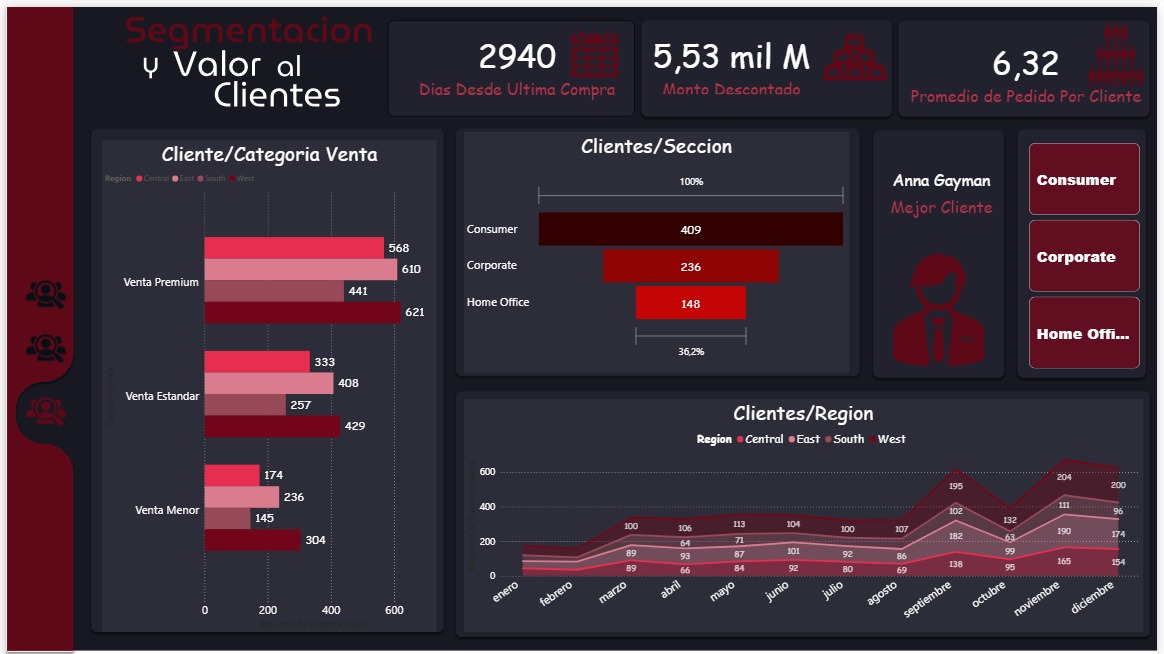

The page's visual inventory and layout, read from the dashboard file:
{"tool":"powerbi","page":{"name":"Segmentacion y valor al cliente","canvas":[1920,1080],"ordinal":2},"visuals":[{"type":"funnel","title":"Clientes/Seccion","fields":{"Y":["vw_DataPowerBI.CustomerName"],"Category":["vw_DataPowerBI.Segment"]},"box":[765,208.3,641.7,401.7],"z":0},{"type":"clusteredBarChart","title":"Cliente/Categoria Venta","fields":{"Y":["vw_DataPowerBI.CustomerName"],"Category":["vw_DataPowerBI.CategoriaVenta"],"Series":["vw_DataPowerBI.Region"]},"box":[161.7,221.7,558.3,820],"z":1000},{"type":"stackedAreaChart","title":"Clientes/Region","fields":{"Y":["vw_DataPowerBI.CustomerName"],"Category":["vw_DataPowerBI.OrderDate.Variación.Jerarquía de fechas.Mes"],"Series":["vw_DataPowerBI.Region"]},"box":[765,653.3,1131.7,388.3],"z":2000},{"type":"card","fields":{"Values":["SegmentacionYValorAlCliente.DiasDesdeUltimaCompra"]},"box":[660,31.7,386.7,130],"z":3000},{"type":"card","fields":{"Values":["SegmentacionYValorAlCliente.MontoDescontado"]},"box":[1068.3,43.3,285,106.7],"z":4000},{"type":"card","fields":{"Values":["SegmentacionYValorAlCliente.PedidoPorCliente"]},"box":[1495,43.3,413.3,130],"z":5000},{"type":"card","fields":{"Values":["SegmentacionYValorAlCliente.ClienteMayorVenta"]},"box":[1453.3,221.7,215,170],"z":6000},{"type":"advancedSlicerVisual","fields":{"Values":["vw_DataPowerBI.Segment"]},"box":[1701.7,221.7,195,388.3],"z":7000},{"type":"actionButton","box":[26.7,631.7,83.3,85],"z":8000},{"type":"actionButton","box":[26.7,526.7,83.3,85],"z":9000},{"type":"actionButton","box":[26.7,436.7,83.3,85],"z":10000}]}

Visuals, with their boxes in screenshot pixels (x1, y1, x2, y2), scaled from the page's 1920x1080 canvas onto the 1164x654 screenshot:
"Clientes/Seccion" funnel: left=464, top=126, right=853, bottom=369
"Cliente/Categoria Venta" clusteredBarChart: left=98, top=134, right=436, bottom=631
"Clientes/Region" stackedAreaChart: left=464, top=396, right=1150, bottom=631
card - SegmentacionYValorAlCliente.DiasDesdeUltimaCompra: left=400, top=19, right=635, bottom=98
card - SegmentacionYValorAlCliente.MontoDescontado: left=648, top=26, right=820, bottom=91
card - SegmentacionYValorAlCliente.PedidoPorCliente: left=906, top=26, right=1157, bottom=105
card - SegmentacionYValorAlCliente.ClienteMayorVenta: left=881, top=134, right=1011, bottom=237
advancedSlicerVisual - vw_DataPowerBI.Segment: left=1032, top=134, right=1150, bottom=369
actionButton: left=16, top=383, right=67, bottom=434
actionButton: left=16, top=319, right=67, bottom=370
actionButton: left=16, top=264, right=67, bottom=316
